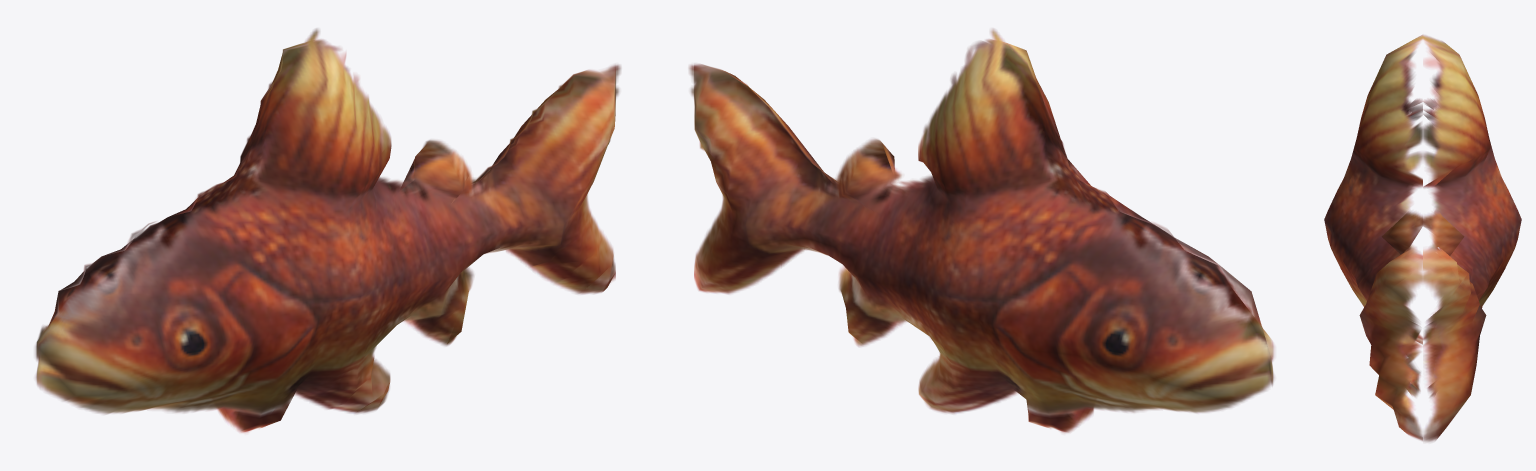
File: fish_emberfin.glb
3 views of the same model, side by side, from view 1: azimuth 30°, elevation 25°; view 2: azimuth 150°, elevation 25°; view 3: azimuth 270°, elevation 25° (orthographic). The views are drawn at different scales.
Visible parts, largest first — view 1: fish_emberfin; view 2: fish_emberfin; view 3: fish_emberfin.
Boxes of the visible parts, x1,y1,x2,y2 form: fish_emberfin: (35, 28, 620, 433); fish_emberfin: (689, 28, 1274, 433); fish_emberfin: (1324, 35, 1521, 441).
Bounding box in the file's own units: 0.45 × 0.2894 × 0.1399.
Materials: 1 (1 with a texture image).
